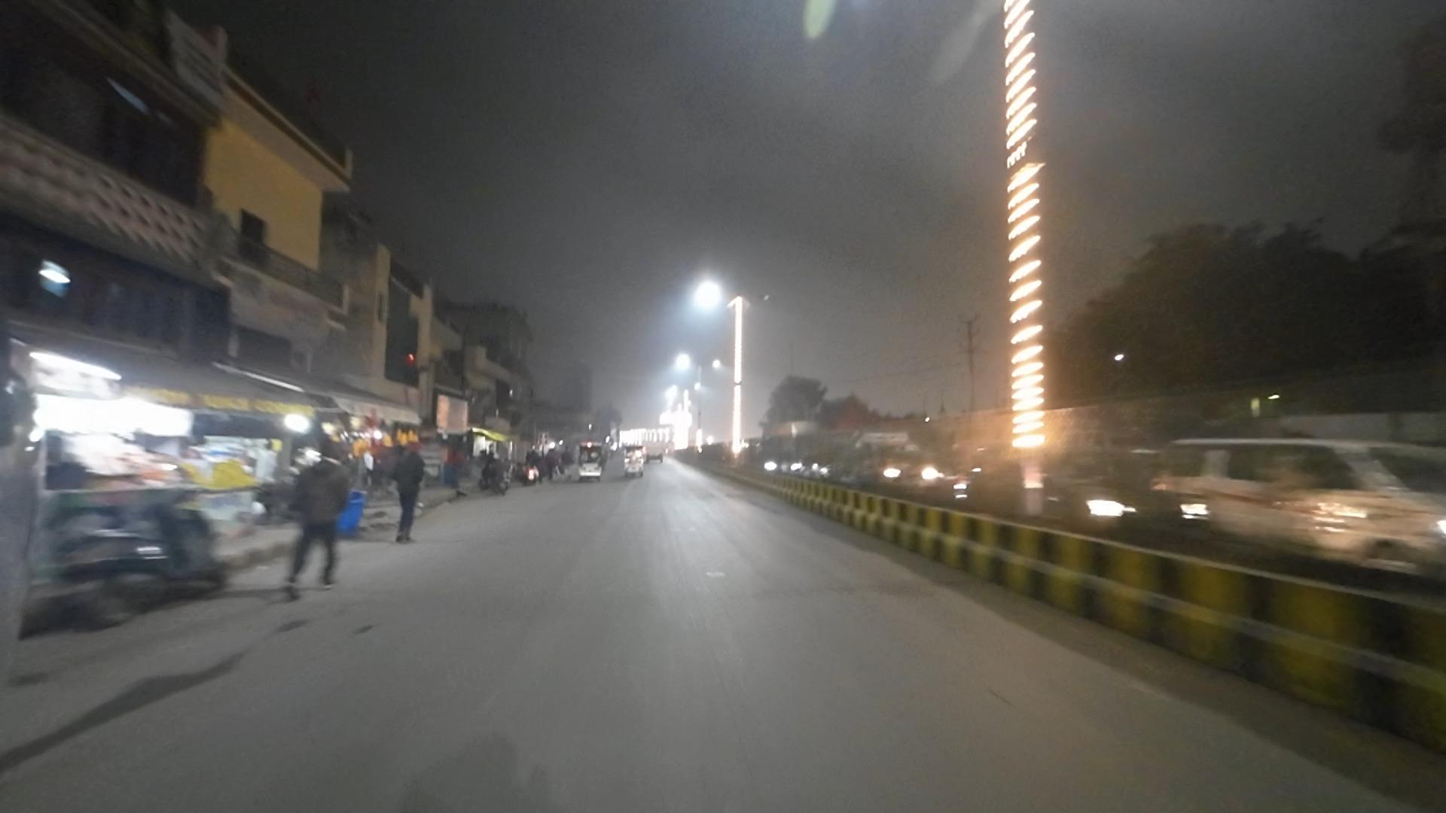streetlight: (743, 291, 771, 306)
